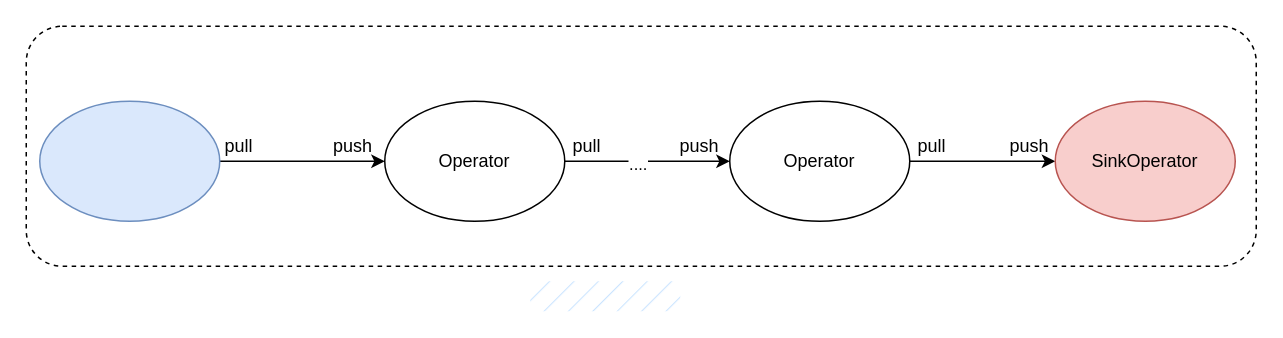
Image size: 1283x338. Some labels were removed from this diagram. The box of each missing label's shape, as (x1, y1, x2, y2) in pixels:
Pipeline Stream: (530, 280, 680, 310)
SourceOperator: (38, 100, 220, 221)
